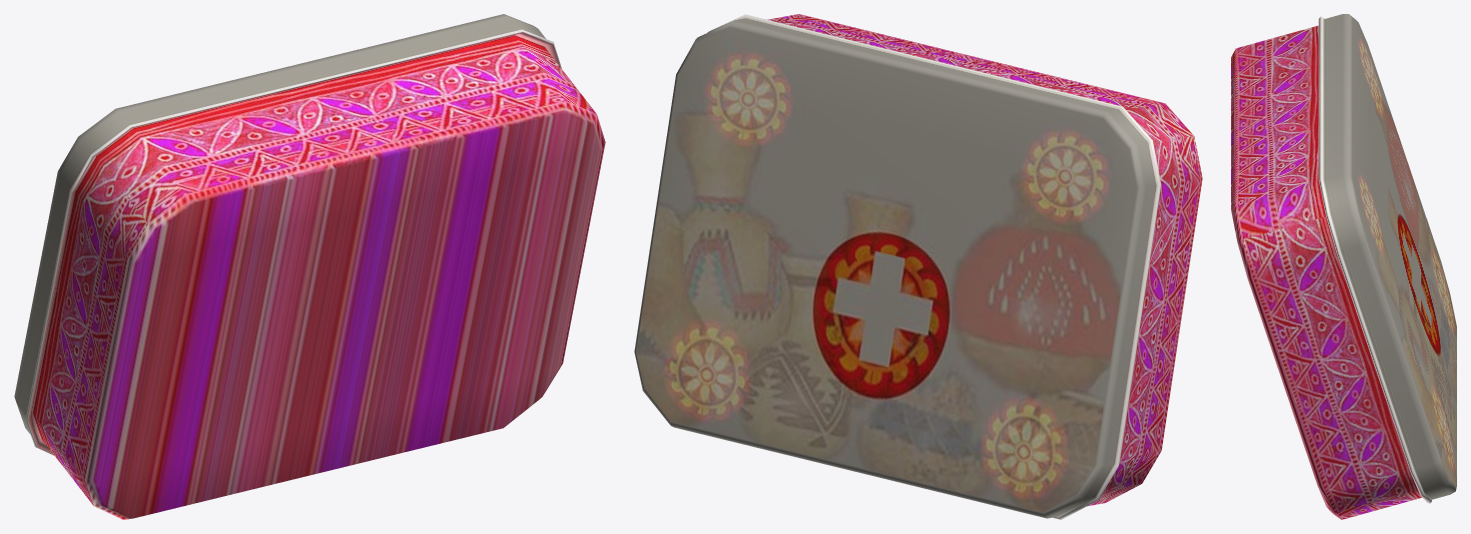
Rendered from First_Aid_Box.fbx.
3 renders of one model, left to right at view 1: azimuth 30°, elevation 25°; view 2: azimuth 150°, elevation 25°; view 3: azimuth 270°, elevation 25°, orthographic. The views are drawn at different scales.
Parts seen in each view (by area): view 1: pCube1; view 2: pCube1; view 3: pCube1.
Boxes of the visible parts, x1,y1,x2,y2 form: pCube1: (14,14,605,519); pCube1: (634,14,1202,519); pCube1: (1231,14,1456,519).
Bounding box in the file's own units: 13.94 × 11.05 × 6.52.
